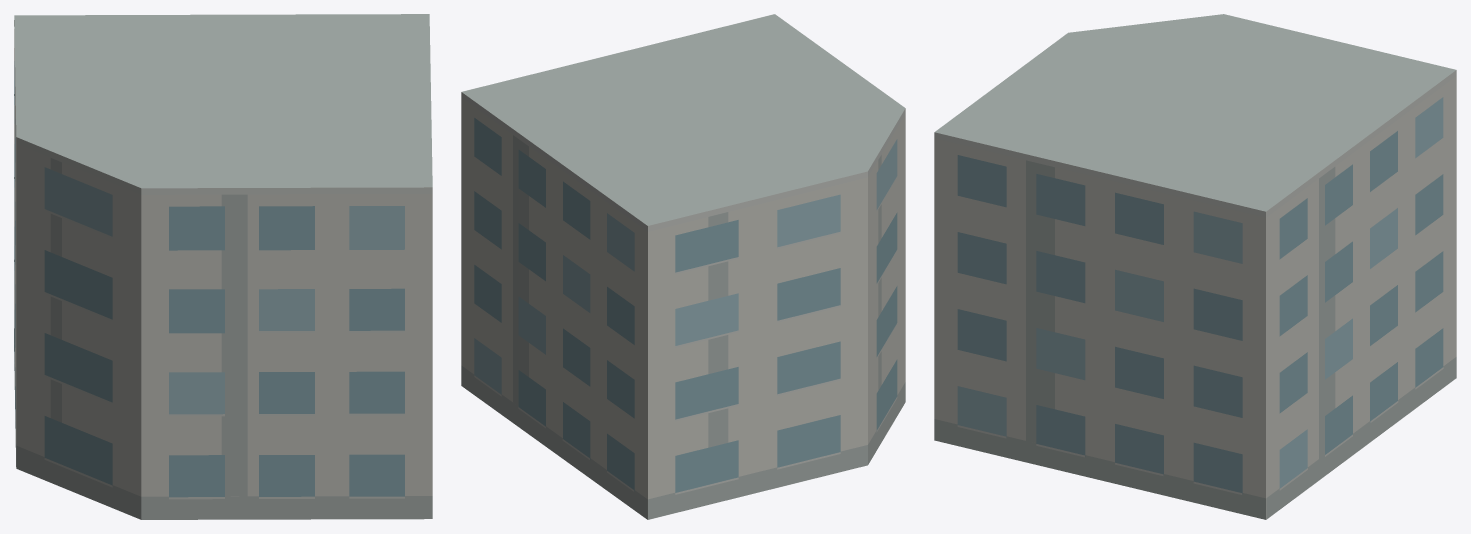
File: residential-a2fde97f-9298-45be-a43e-7bdf0530caa8.glb
3 renders of one model, left to right at view 1: azimuth 30°, elevation 25°; view 2: azimuth 150°, elevation 25°; view 3: azimuth 270°, elevation 25°, orthographic. The views are drawn at different scales.
Visible parts, largest first — view 1: residential-a2fde97f-9298-45be-a43e-7bdf0530caa8.tmp; view 2: residential-a2fde97f-9298-45be-a43e-7bdf0530caa8.tmp; view 3: residential-a2fde97f-9298-45be-a43e-7bdf0530caa8.tmp.
Part boxes in pixels (x1=…): residential-a2fde97f-9298-45be-a43e-7bdf0530caa8.tmp: x1=14, y1=14, x2=432, y2=519; residential-a2fde97f-9298-45be-a43e-7bdf0530caa8.tmp: x1=461, y1=14, x2=905, y2=519; residential-a2fde97f-9298-45be-a43e-7bdf0530caa8.tmp: x1=934, y1=14, x2=1456, y2=519.
Size of the model in its own units: 16.8 by 12.2 by 18.75.
